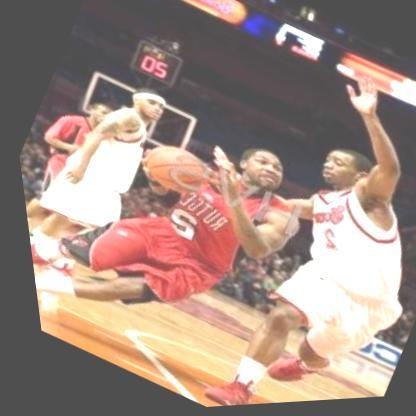basketball: (132, 136, 209, 206)
